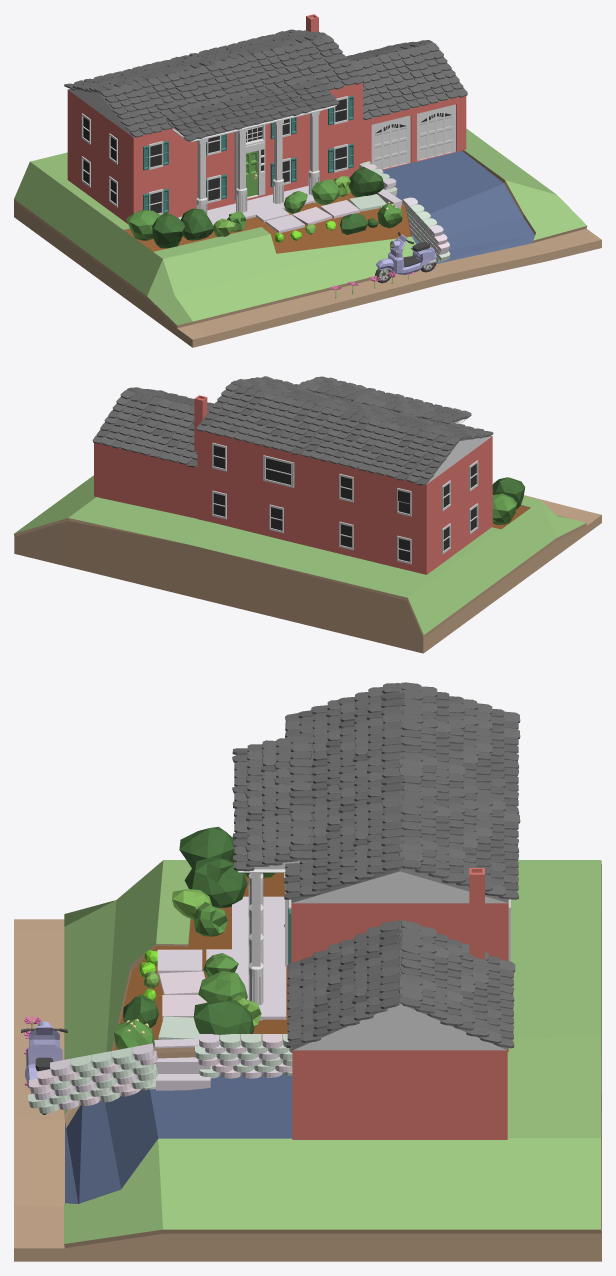
The model's file is home.fbx.
The picture shows the model from 3 angles, top to bottom: view 1: azimuth 30°, elevation 25°; view 2: azimuth 150°, elevation 25°; view 3: azimuth 270°, elevation 25°; orthographic projection. The views are drawn at different scales.
Parts seen in each view (by area): view 1: Floor, Cube.005; view 2: Floor; view 3: Floor, Cube.005.
Boxes of the visible parts, x1,y1,x2,y2 form: Floor: [14, 14, 601, 347]; Cube.005: [375, 232, 436, 283]; Floor: [14, 376, 601, 653]; Floor: [14, 682, 601, 1261]; Cube.005: [21, 1021, 67, 1114].
Bounding box in the file's own units: 1466 × 565 × 1106.
